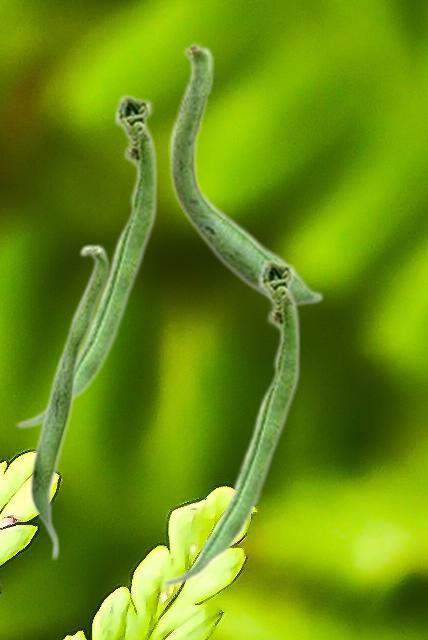french_bean: (14, 92, 157, 429), (159, 257, 300, 587), (168, 40, 323, 306), (28, 243, 109, 561)
